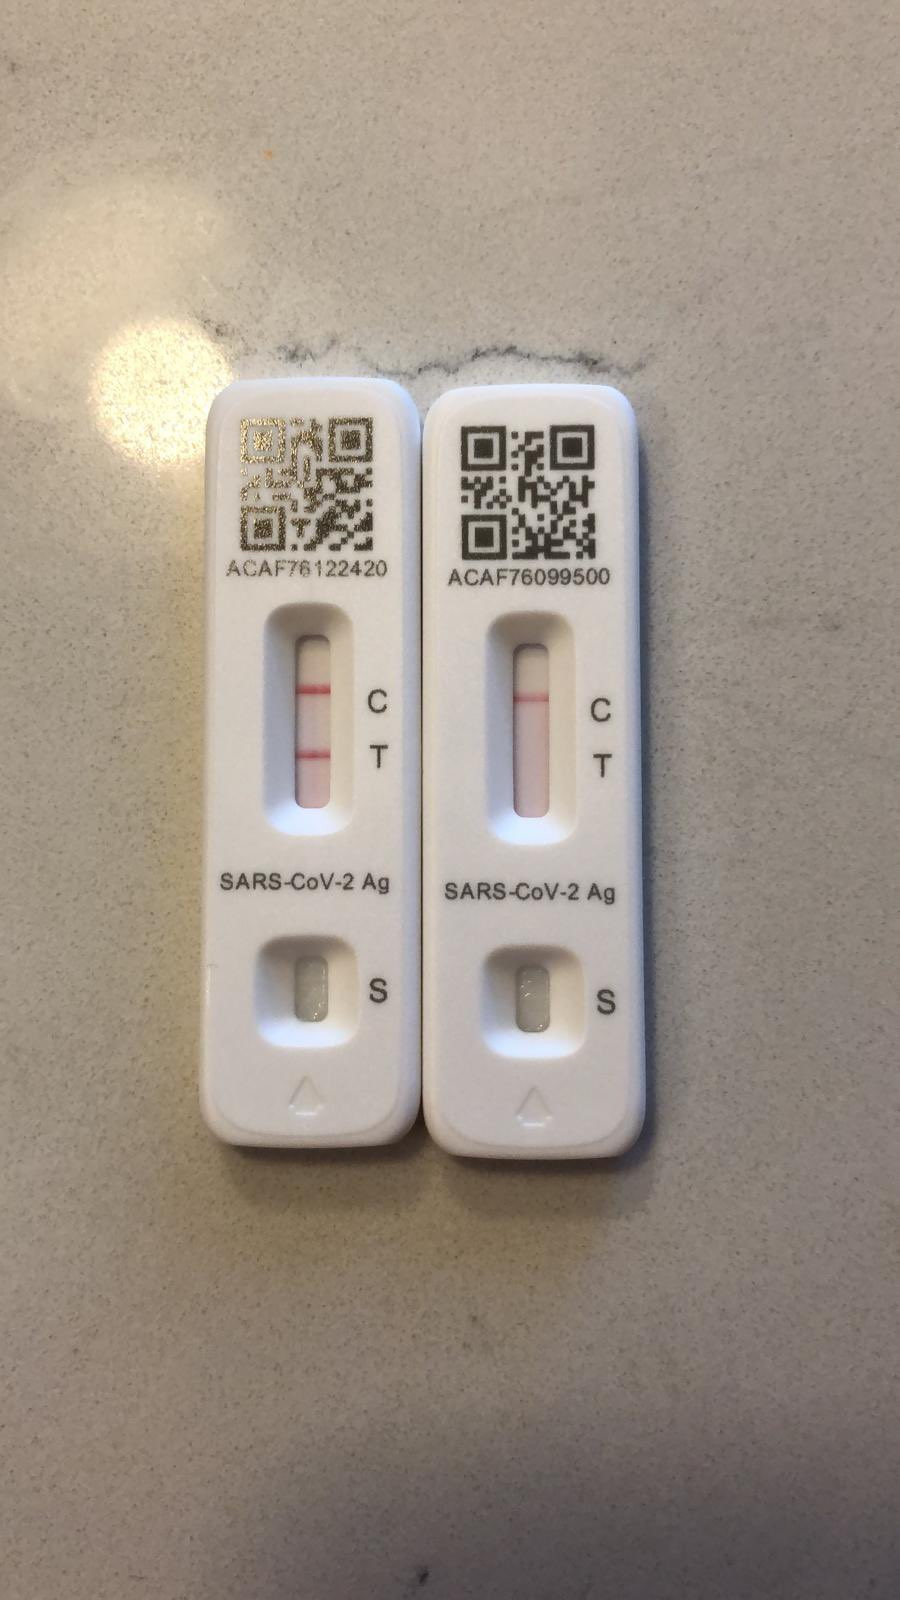positive: (482, 612, 576, 842), (263, 605, 342, 838)
